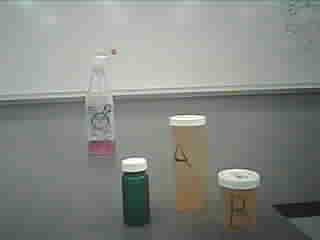Bottle A: (166, 114, 211, 219)
Bottle B: (215, 167, 262, 237)
Bottle C: (119, 155, 153, 229)
hazard: (83, 45, 120, 158)
